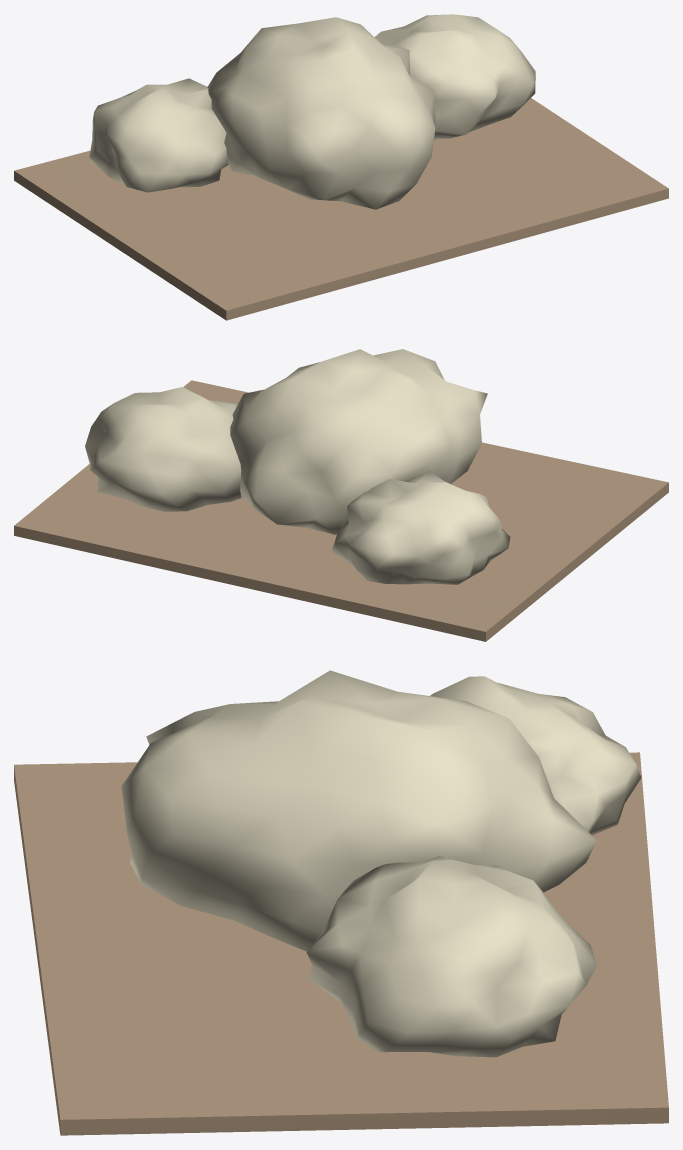
The model's file is animal-fat.glb.
The picture shows the model from 3 angles, top to bottom: view 1: azimuth 30°, elevation 25°; view 2: azimuth 150°, elevation 25°; view 3: azimuth 270°, elevation 25°; orthographic projection. The views are drawn at different scales.
Visible parts, largest first — view 1: Body_lod0; view 2: Body_lod0; view 3: Body_lod0.
Part boxes in pixels (left/top/right/bottom): Body_lod0: left=14, top=14, right=668, bottom=320; Body_lod0: left=14, top=349, right=668, bottom=641; Body_lod0: left=14, top=670, right=668, bottom=1135.
Size of what is drawn, in the model's own units: 0.15 by 0.0466 by 0.113.
